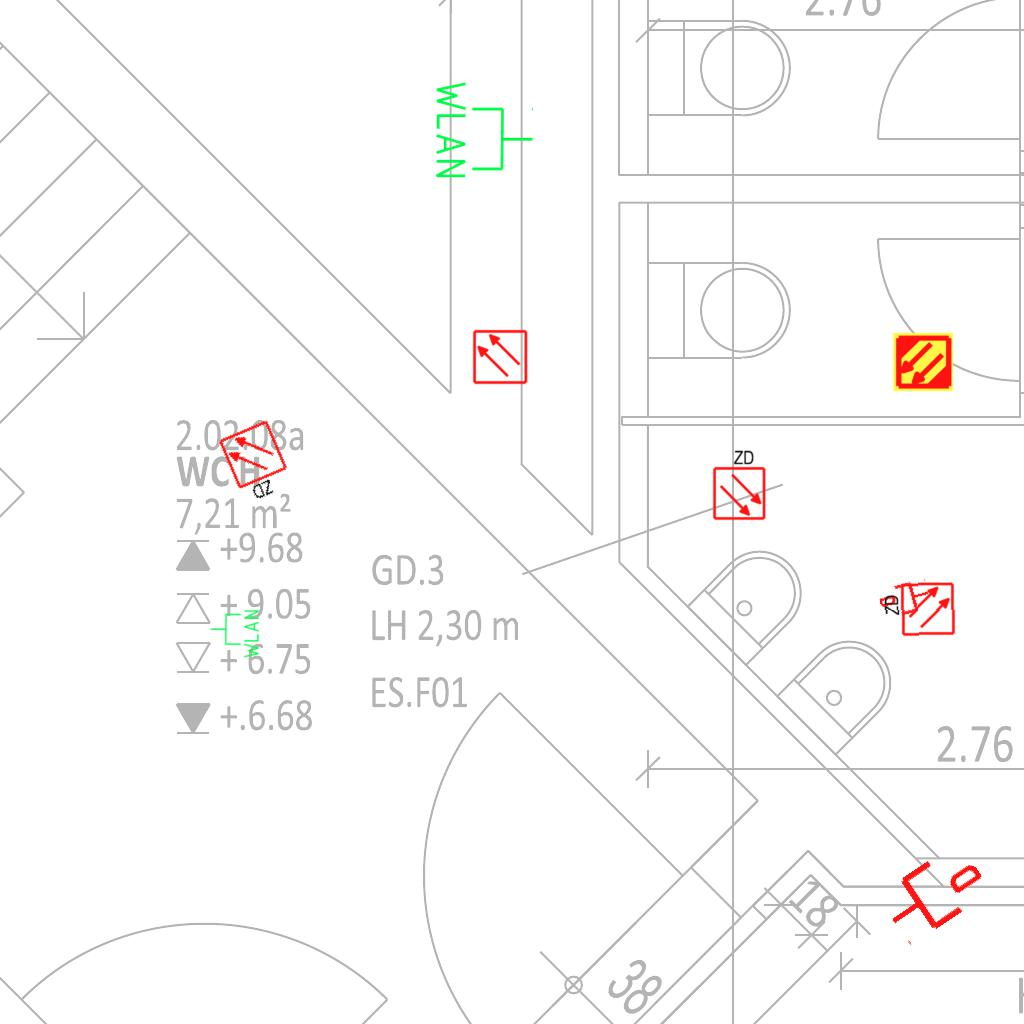ASR_Ansaugrauchmelder: (892, 331, 954, 393)
Datenanschluss_einfach: (872, 837, 995, 951), (876, 576, 934, 622)
RMO_Rauchmelder_optischer: (472, 329, 528, 385)
WLAN: (432, 77, 536, 182), (209, 608, 261, 660)
ZD_Melder_in_Zwischendecke_mit_Revisionsoeffnung_mind_40_x_40_cm: (216, 417, 299, 509), (881, 580, 956, 640), (710, 447, 767, 521)
